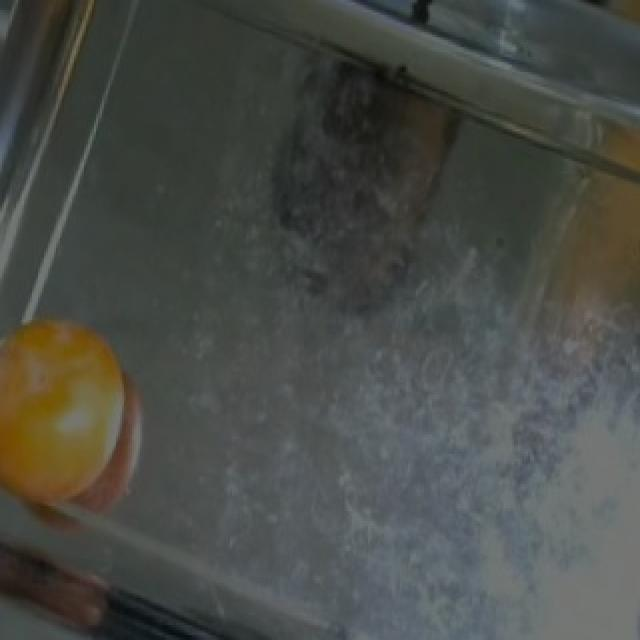Fruit: (0, 300, 152, 543)
